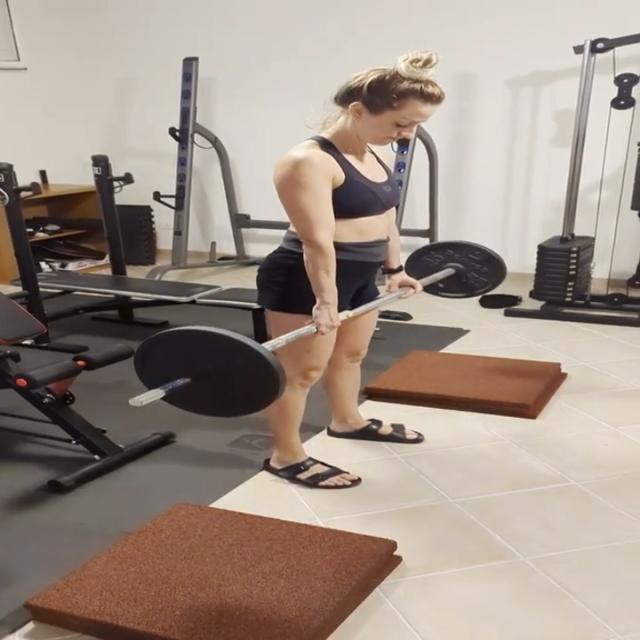barbell: (124, 320, 288, 422)
